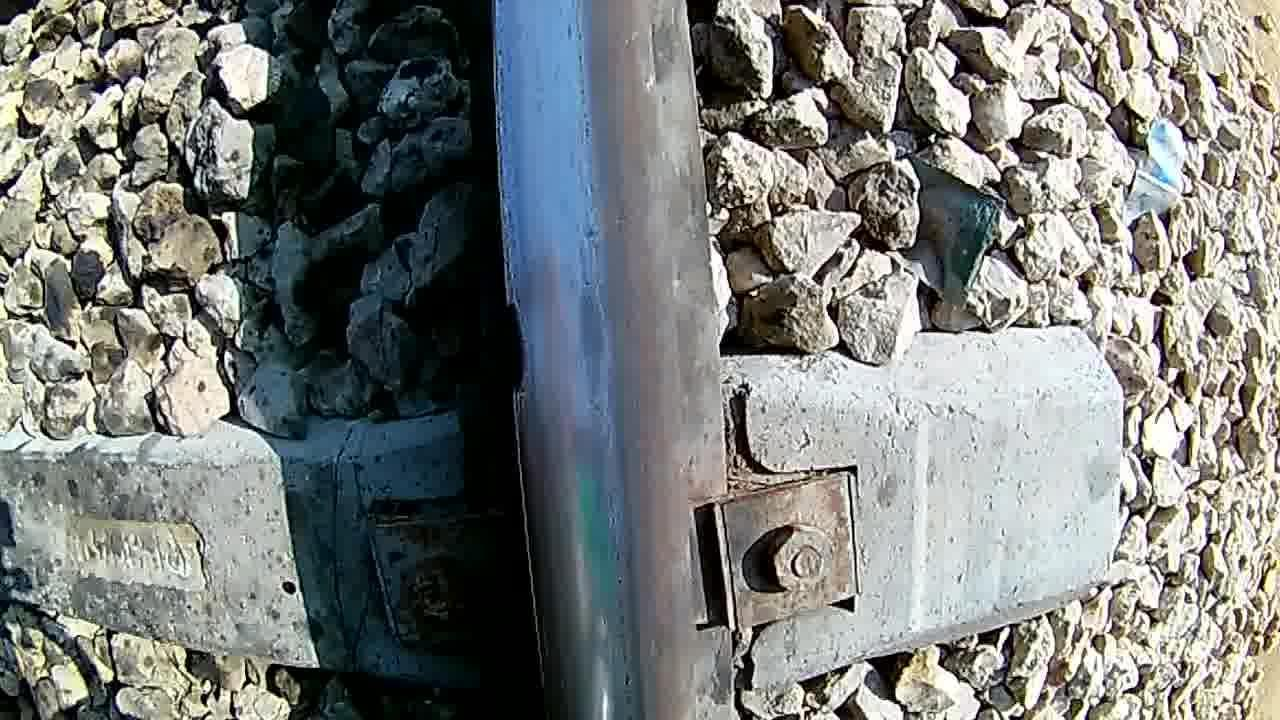crack: (527, 3, 716, 720)
